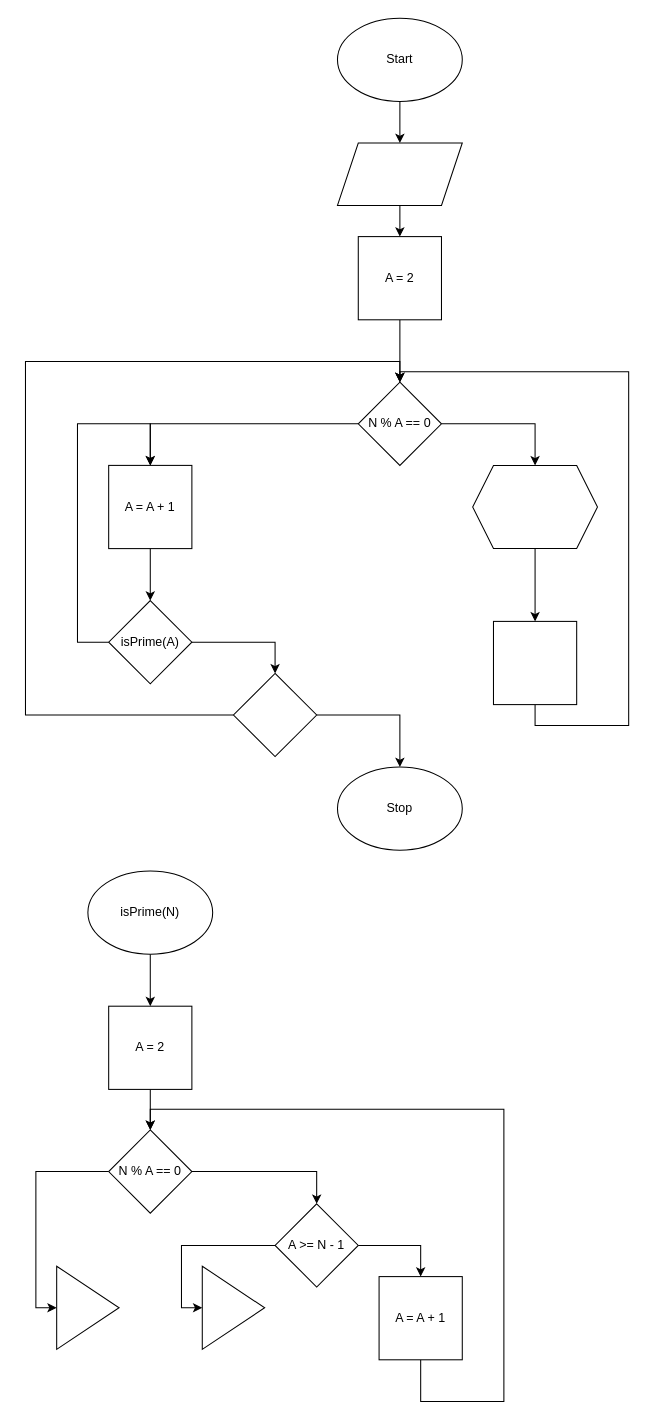
Image size: 655x1428. Some labels were removed from this diagram. Each missing label, with the centre of its shape:
"A *" goes at point (534, 506).
"A > N" goes at point (274, 714).
"False" goes at point (87, 1307).
"N = N / A" goes at point (534, 662).
"N = user input" goes at point (399, 173).
"True" goes at point (233, 1307).
